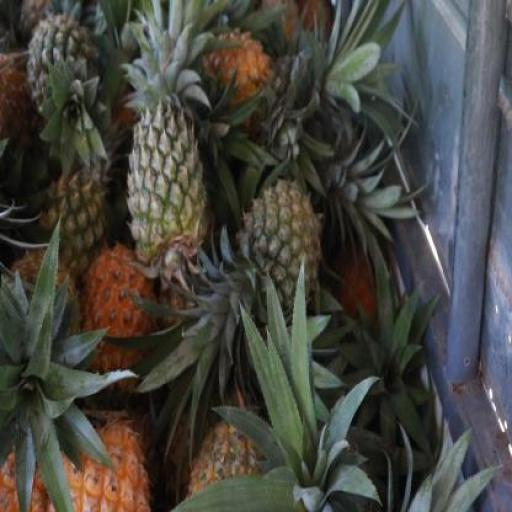Pineapple - v8 v1: (73, 248, 147, 397), (44, 419, 152, 512), (198, 26, 278, 109)
